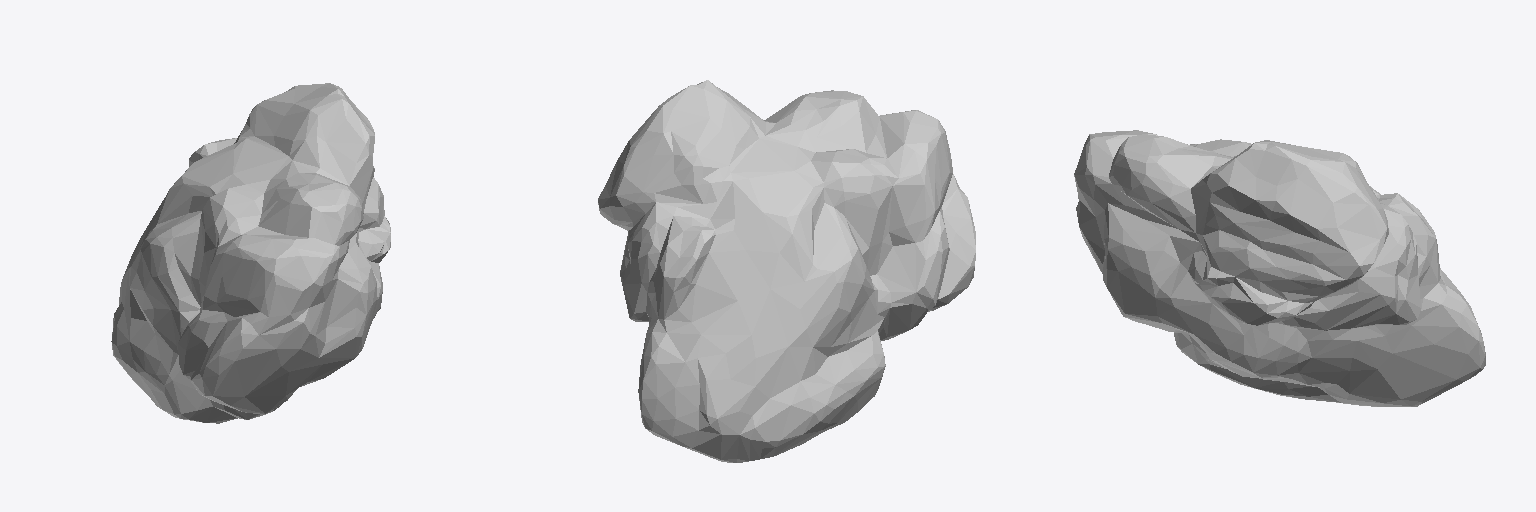
The model's file is Rock.obj.
3 views of the same model, side by side, from view 1: azimuth 30°, elevation 25°; view 2: azimuth 150°, elevation 25°; view 3: azimuth 270°, elevation 25° (orthographic).
Parts seen in each view (by area): view 1: Rock_LowPoly; view 2: Rock_LowPoly; view 3: Rock_LowPoly.
Part boxes in pixels (left/top/right/bottom): Rock_LowPoly: left=111, top=83, right=390, bottom=423; Rock_LowPoly: left=598, top=80, right=975, bottom=462; Rock_LowPoly: left=1074, top=130, right=1485, bottom=406.
Bounding box in the file's own units: 146 × 160 × 200.